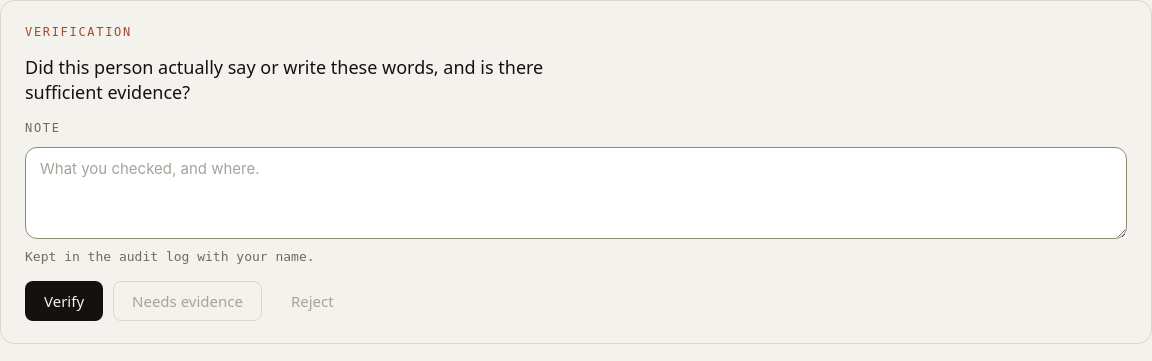
Test case: ReviewDecision › holds an outcome that needs a note until one is written
Expected: the button "Reject" is disabled, [272,281,353,321]
Expected: the button "Verify" is enabled, [25,281,103,321]
In the text box labelled "Note": [576, 193] box [25,147,1127,239], type "No source."
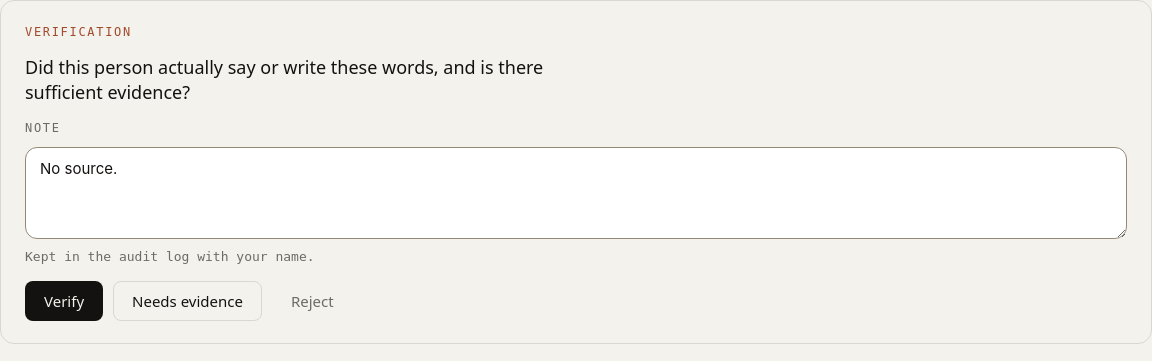
Now the button "Reject" is enabled, box [272,281,353,321]
